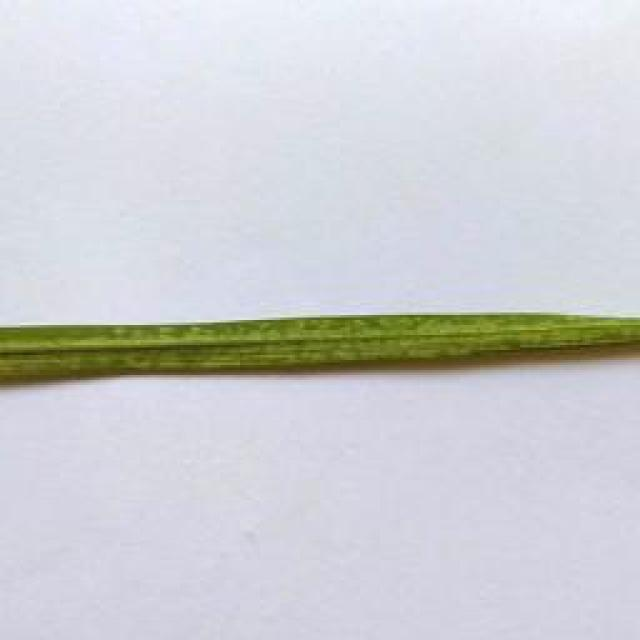Healthy-Plant: (0, 295, 640, 408)
